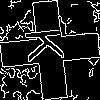K: (25, 25, 73, 63)
